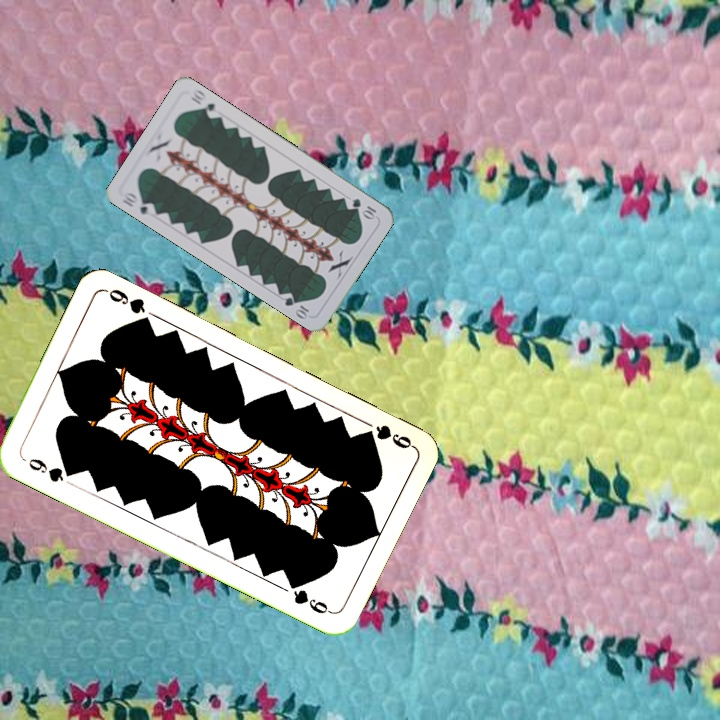G10: (118, 188, 158, 217), (348, 194, 380, 222)
G9: (359, 420, 416, 452), (24, 454, 77, 485)
